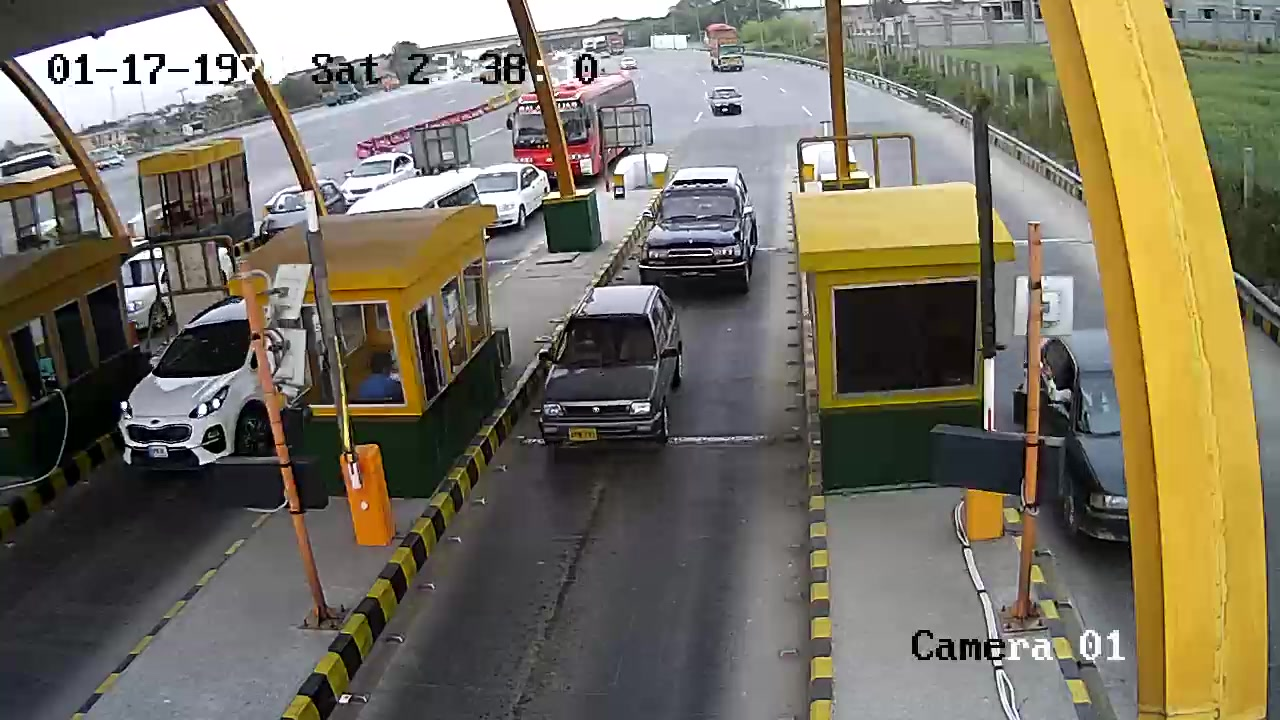F1: (527, 280, 700, 464)
